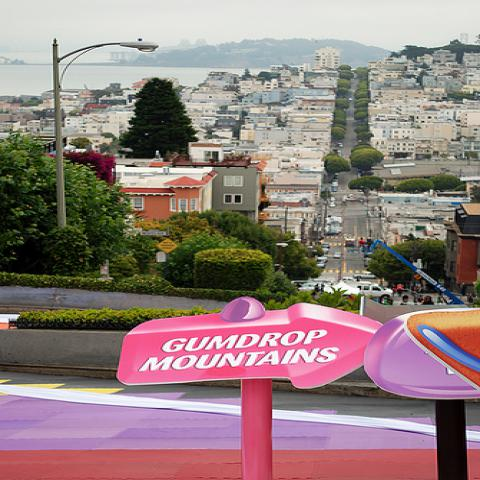car: (299, 283, 317, 292), (332, 277, 362, 281), (323, 230, 340, 236), (317, 256, 328, 262), (315, 262, 325, 268), (332, 252, 340, 259), (322, 248, 330, 255), (345, 241, 354, 247), (321, 242, 329, 248), (326, 223, 341, 226)
truck: (344, 281, 393, 297), (352, 272, 378, 280)
